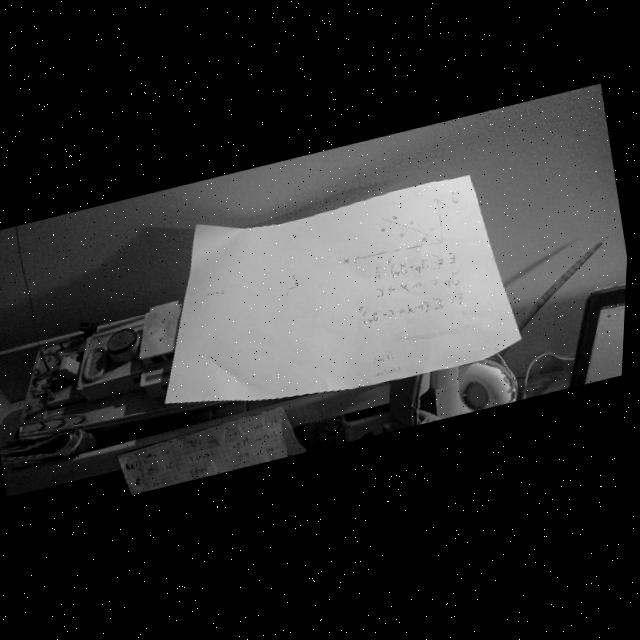document: (164, 174, 523, 404)
